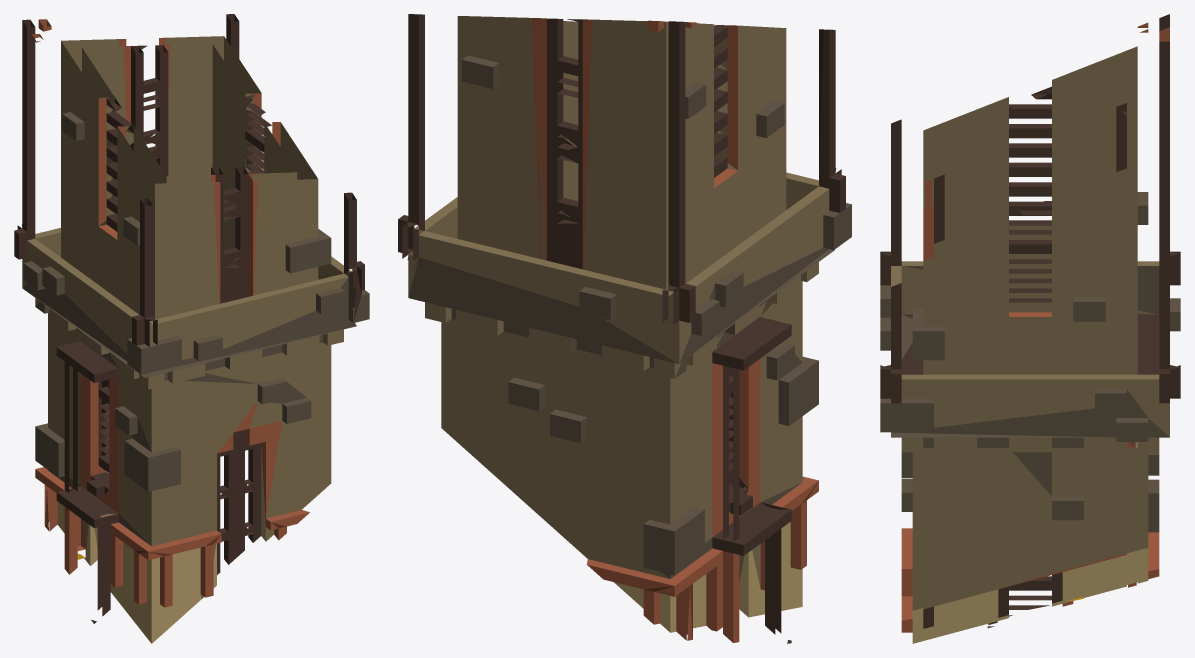
Rendered from tallBuilding_02_mid.obj.
3 renders of one model, left to right at view 1: azimuth 30°, elevation 25°; view 2: azimuth 150°, elevation 25°; view 3: azimuth 270°, elevation 25°, orthographic. The views are drawn at different scales.
Visible parts, largest first — view 1: Untitled; view 2: Untitled; view 3: Untitled.
Boxes of the visible parts, x1=… form: Untitled: x1=14, y1=14, x2=369, y2=643; Untitled: x1=398, y1=14, x2=851, y2=643; Untitled: x1=880, y1=14, x2=1180, y2=643.
Size of the model in its own units: 2.8 by 6.39 by 2.8.
